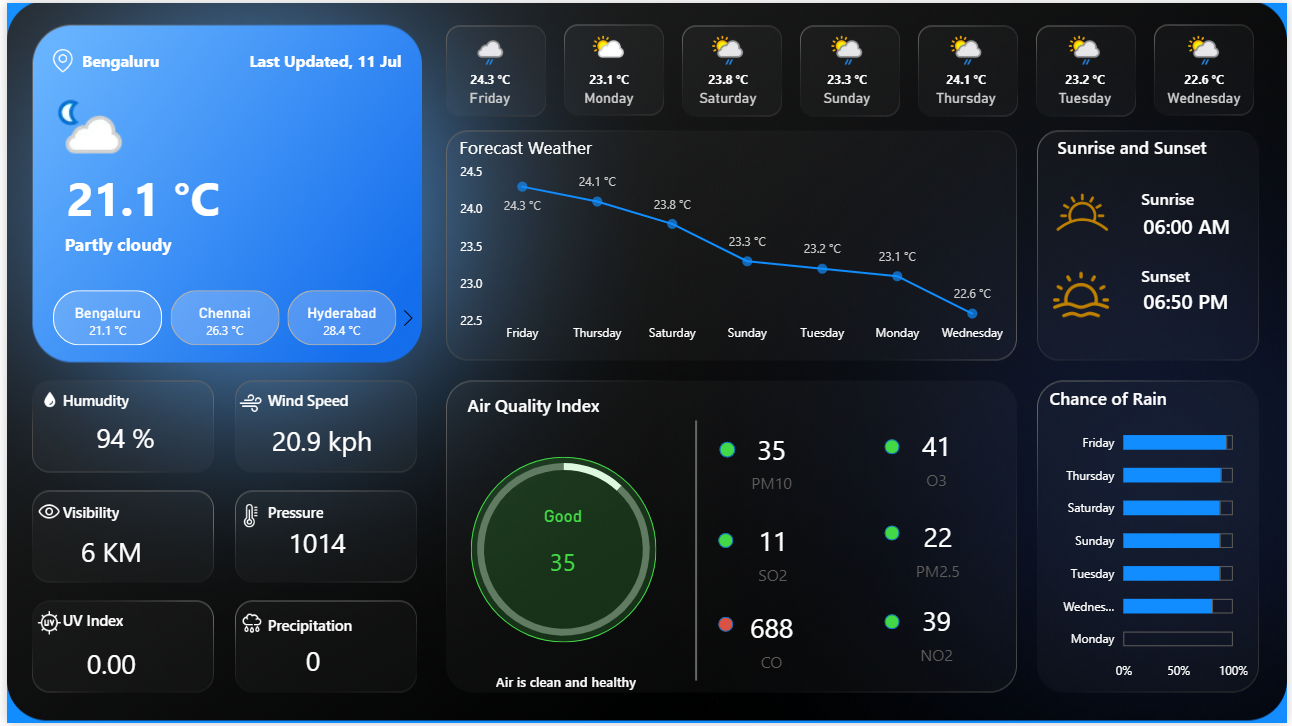

The page's visual inventory and layout, read from the dashboard file:
{"tool":"powerbi","page":{"name":"Page 1","canvas":[1280,720],"ordinal":0},"visuals":[{"type":"donutChart","fields":{"Y":["Sum(Current.current.air_quality.pm10)","_Measure.Left_Value_PM10"]},"box":[444.3,434.3,225.7,225.7],"z":0},{"type":"shape","box":[464.3,454.3,185.7,185.7],"z":1000},{"type":"advancedSlicerVisual","fields":{"Values":["Location.location.name"]},"box":[21.4,282.9,395.7,65.7],"z":2000},{"type":"shape","box":[54.8,157.3,205,65],"z":3000},{"type":"shape","box":[54.8,222.3,368.1,36.1],"z":4000},{"type":"shape","box":[72.2,41.9,85.2,33.2],"z":5000},{"type":"shape","box":[239.6,41.9,160.2,33.2],"z":6000},{"type":"image","box":[36.1,41.9,39,33.2],"z":7000},{"type":"cardVisual","fields":{"Data":["Min(Current.current.condition.icon)"]},"box":[21.7,75.1,108.3,93.8],"z":8000},{"type":"image","box":[21.4,384.3,42.9,25.7],"z":9000},{"type":"shape","box":[54.3,384.3,100,25.7],"z":10000},{"type":"image","box":[14.3,491.4,57.1,34.3],"z":11000},{"type":"shape","box":[54.3,495.7,100,25.7],"z":12000},{"type":"image","box":[18.6,602.9,47.1,34.3],"z":13000},{"type":"shape","box":[54.3,604.3,100,25.7],"z":14000},{"type":"image","box":[220,384.3,47.1,32.9],"z":15000},{"type":"shape","box":[258.6,384.3,100,25.7],"z":16000},{"type":"image","box":[214.3,495.7,60,32.9],"z":17000},{"type":"shape","box":[258.6,495.7,100,25.7],"z":18000},{"type":"image","box":[224.3,604.3,42.9,32.9],"z":19000},{"type":"shape","box":[258.6,608.6,100,25.7],"z":20000},{"type":"card","fields":{"Values":["_Measures.Wind_Speed"]},"box":[258.6,410,112.9,57.1],"z":21000},{"type":"card","fields":{"Values":["_Measures.Visibility"]},"box":[58.6,521.4,91.4,57.1],"z":22000},{"type":"card","fields":{"Values":["Sum(Current.current.uv)"]},"box":[58.6,634.3,91.4,57.1],"z":23000},{"type":"card","fields":{"Values":["Sum(Current.current.precip_in)"]},"box":[262.9,630,87.1,57.1],"z":24000},{"type":"card","fields":{"Values":["_Measures.Humidity"]},"box":[65.7,401.4,104.3,70],"z":25000},{"type":"card","fields":{"Values":["Sum(Current.current.pressure_mb)"]},"box":[262.9,512.9,95.7,57.1],"z":26000},{"type":"advancedSlicerVisual","fields":{"Values":["Forecast_day.Day_Name"]},"box":[422.9,21.4,840,100],"z":27000},{"type":"lineChart","title":"Forecast Weather","fields":{"Y":["Sum(Forecast_day.forecast.forecastday.day.avgtemp_c)"],"Category":["Forecast_day.Day_Name"]},"box":[447.1,132.9,560,215.7],"z":28000},{"type":"shape","box":[1048.6,131.4,157.1,25.7],"z":29000},{"type":"shape","box":[1132.9,195.7,112.9,52.9],"z":30000},{"type":"shape","box":[1132.9,271.4,112.9,52.9],"z":31000},{"type":"shape","box":[1132.9,182.9,100,25.7],"z":32000},{"type":"shape","box":[1132.9,258.6,100,25.7],"z":33000},{"type":"image","box":[1014.3,170,122.9,78.6],"z":34000},{"type":"image","box":[1021.4,258.6,105.7,65.7],"z":35000},{"type":"hundredPercentStackedBarChart","title":"Chance of Rain","fields":{"Y":["Sum(Forecast_day.forecast.forecastday.day.daily_chance_of_rain)","_Measure.Left_Value_Rain"],"Category":["Forecast_day.Day_Name"]},"box":[1037.1,384.3,208.6,302.9],"z":36000},{"type":"shape","box":[458.6,388.6,157.1,25.7],"z":37000},{"type":"card","fields":{"Values":["Sum(Current.current.air_quality.o3)"]},"box":[875.7,417.1,107.1,74.3],"z":38000},{"type":"card","fields":{"Values":["Sum(Current.current.air_quality.pm2_5)"]},"box":[877.1,508.6,107.1,74.3],"z":39000},{"type":"card","fields":{"Values":["Sum(Current.current.air_quality.no2)"]},"box":[875.7,592.9,107.1,74.3],"z":40000},{"type":"card","fields":{"Values":["Sum(Current.current.air_quality.pm10)"]},"box":[711.4,421.4,107.1,74.3],"z":41000},{"type":"card","fields":{"Values":["Sum(Current.current.air_quality.co)"]},"box":[711.4,600,107.1,74.3],"z":42000},{"type":"card","fields":{"Values":["Sum(Current.current.air_quality.so2)"]},"box":[712.9,512.9,107.1,74.3],"z":43000},{"type":"shape","box":[712.9,438.6,15.7,15.7],"z":44000},{"type":"shape","box":[711.4,614.3,15,15],"z":45000},{"type":"shape","box":[711.4,530,15,15],"z":46000},{"type":"shape","box":[877.1,611.4,15,15],"z":47000},{"type":"shape","box":[877.1,522.9,15,15],"z":48000},{"type":"shape","box":[877.1,435.7,15,15],"z":49000},{"type":"shape","box":[681.4,417.1,15.7,260],"z":50000},{"type":"card","fields":{"Values":["Sum(Current.current.air_quality.pm10)"]},"box":[494.3,502.9,124.3,97.1],"z":51000},{"type":"shape","box":[447.1,654.3,222.9,50],"z":52000}]}

Visuals, with their boxes in screenshot pixels (x1, y1, x2, y2), scaled from the page's 1280x720 canvas onto the 1292x726 screenshot:
donutChart - Sum(Current.current.air_quality.pm10) x _Measure.Left_Value_PM10: Rect(448, 438, 676, 666)
shape: Rect(469, 458, 656, 645)
advancedSlicerVisual - Location.location.name: Rect(22, 285, 421, 352)
shape: Rect(55, 159, 262, 224)
shape: Rect(55, 224, 427, 261)
shape: Rect(73, 42, 159, 76)
shape: Rect(242, 42, 404, 76)
image: Rect(36, 42, 76, 76)
cardVisual - Min(Current.current.condition.icon): Rect(22, 76, 131, 170)
image: Rect(22, 388, 65, 413)
shape: Rect(55, 388, 156, 413)
image: Rect(14, 495, 72, 530)
shape: Rect(55, 500, 156, 526)
image: Rect(19, 608, 66, 643)
shape: Rect(55, 609, 156, 635)
image: Rect(222, 388, 270, 421)
shape: Rect(261, 388, 362, 413)
image: Rect(216, 500, 277, 533)
shape: Rect(261, 500, 362, 526)
image: Rect(226, 609, 270, 643)
shape: Rect(261, 614, 362, 640)
card - _Measures.Wind_Speed: Rect(261, 413, 375, 471)
card - _Measures.Visibility: Rect(59, 526, 151, 583)
card - Sum(Current.current.uv): Rect(59, 640, 151, 697)
card - Sum(Current.current.precip_in): Rect(265, 635, 353, 693)
card - _Measures.Humidity: Rect(66, 405, 172, 475)
card - Sum(Current.current.pressure_mb): Rect(265, 517, 362, 575)
advancedSlicerVisual - Forecast_day.Day_Name: Rect(427, 22, 1275, 122)
"Forecast Weather" lineChart: Rect(451, 134, 1017, 352)
shape: Rect(1058, 132, 1217, 158)
shape: Rect(1144, 197, 1257, 251)
shape: Rect(1144, 274, 1257, 327)
shape: Rect(1144, 184, 1244, 210)
shape: Rect(1144, 261, 1244, 287)
image: Rect(1024, 171, 1148, 251)
image: Rect(1031, 261, 1138, 327)
"Chance of Rain" hundredPercentStackedBarChart: Rect(1047, 388, 1257, 693)
shape: Rect(463, 392, 621, 418)
card - Sum(Current.current.air_quality.o3): Rect(884, 421, 992, 495)
card - Sum(Current.current.air_quality.pm2_5): Rect(885, 513, 993, 588)
card - Sum(Current.current.air_quality.no2): Rect(884, 598, 992, 673)
card - Sum(Current.current.air_quality.pm10): Rect(718, 425, 826, 500)
card - Sum(Current.current.air_quality.co): Rect(718, 605, 826, 680)
card - Sum(Current.current.air_quality.so2): Rect(720, 517, 828, 592)
shape: Rect(720, 442, 735, 458)
shape: Rect(718, 619, 733, 635)
shape: Rect(718, 534, 733, 550)
shape: Rect(885, 616, 900, 632)
shape: Rect(885, 527, 900, 542)
shape: Rect(885, 439, 900, 454)
shape: Rect(688, 421, 704, 683)
card - Sum(Current.current.air_quality.pm10): Rect(499, 507, 624, 605)
shape: Rect(451, 660, 676, 710)
